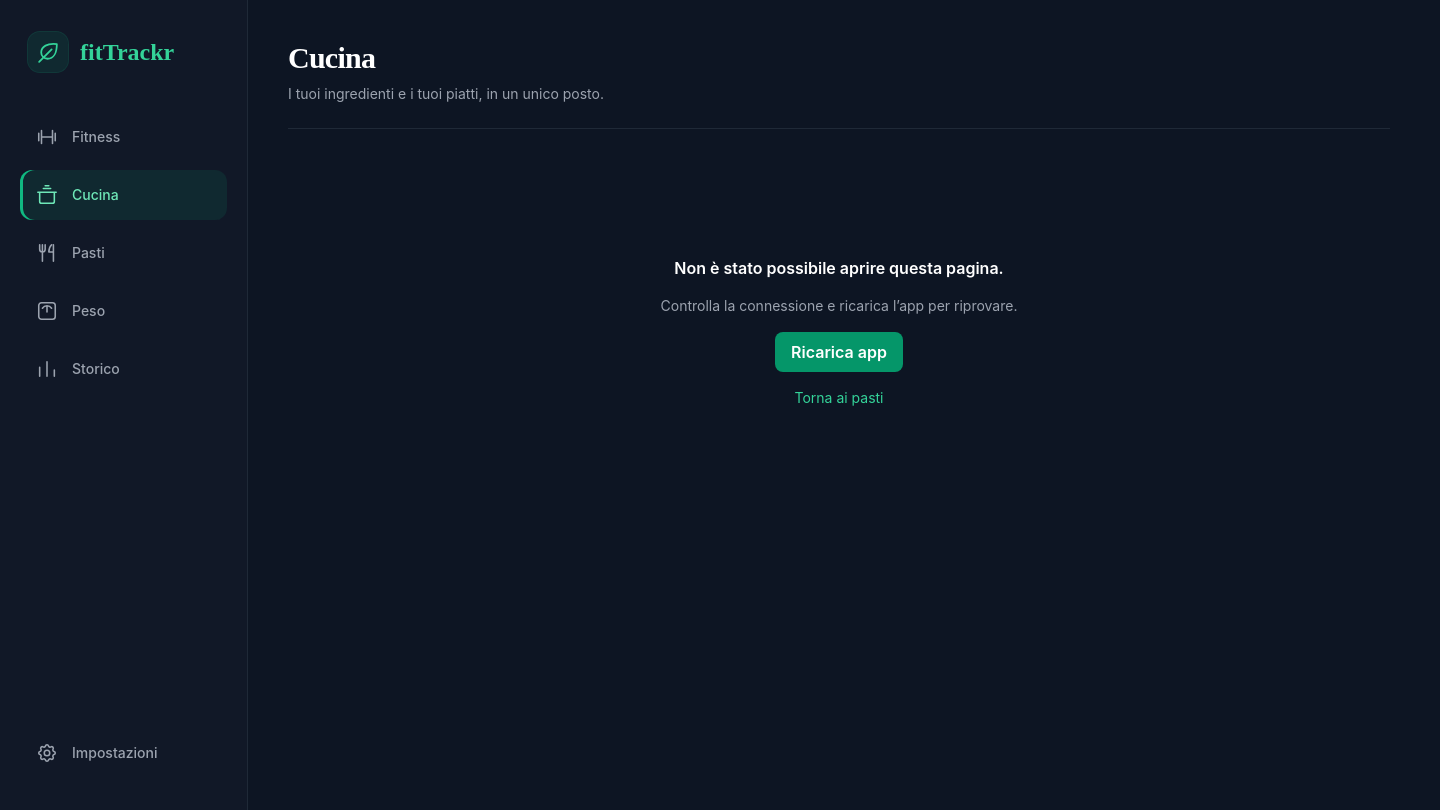
Test: navigation error recovery › keeps navigation usable after a failed render and recovers on another page
Expected: the message shows "Non è stato possibile aprire questa pagina", [674,258,1004,278]
Expected: the button "Ricarica app" is shown, [775,332,903,372]
What coordinates should you click on to do the following:
click the link "Pasti"
I would click on:
 (70, 253)
Its box is [36,242,105,264].
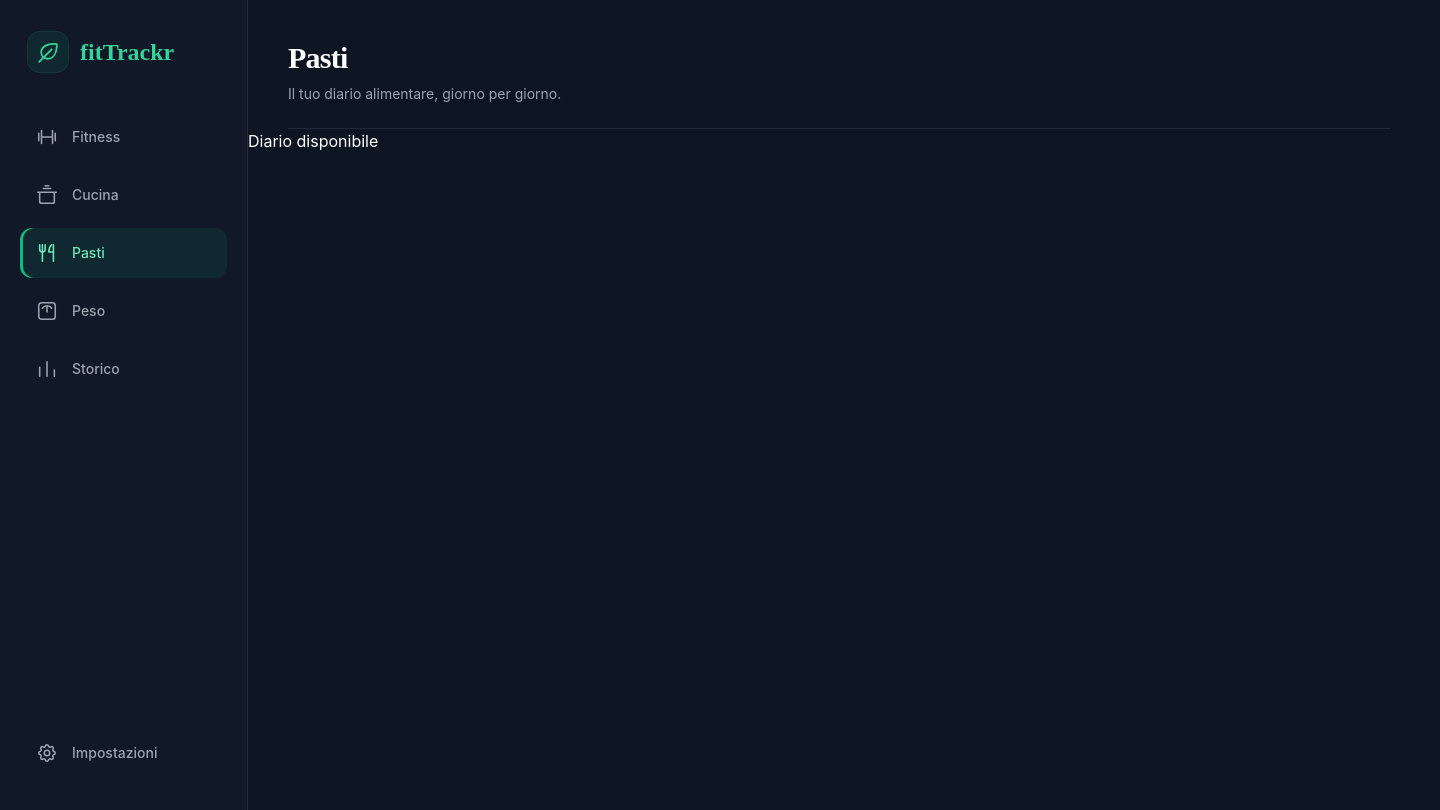
Now the text "Diario disponibile" is shown, box [248,131,378,151]
Now the message "Non è stato possibile aprire questa pagina. Controlla la connessione e ricarica" is gone
